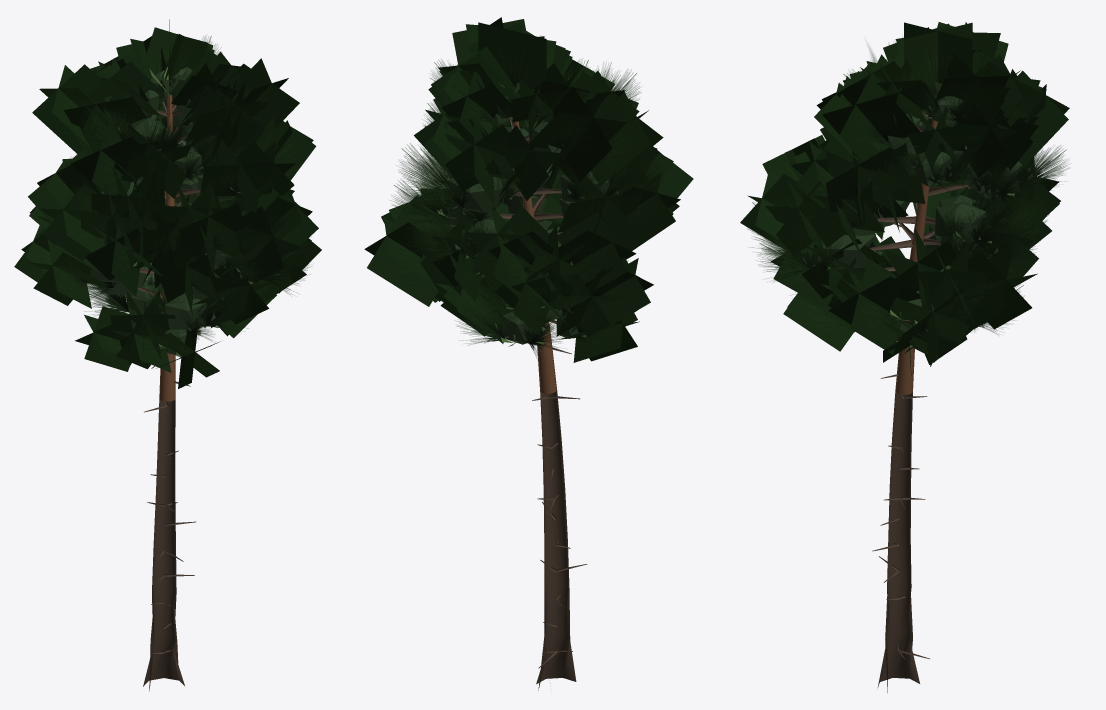
File: Pino_Silvestre.glb
3 renders of one model, left to right at view 1: azimuth 30°, elevation 25°; view 2: azimuth 150°, elevation 25°; view 3: azimuth 270°, elevation 25°, orthographic. The views are drawn at different scales.
Visible parts, largest first — view 1: Pino_Silvestre; view 2: Pino_Silvestre; view 3: Pino_Silvestre.
Part boxes in pixels (<box>): Pino_Silvestre: <box>14,19,321,691</box>; Pino_Silvestre: <box>364,17,693,690</box>; Pino_Silvestre: <box>740,22,1069,692</box>.
Bounding box in the file's own units: 7.8 × 17.4 × 8.71.
Materials: 8 (3 with a texture image).
